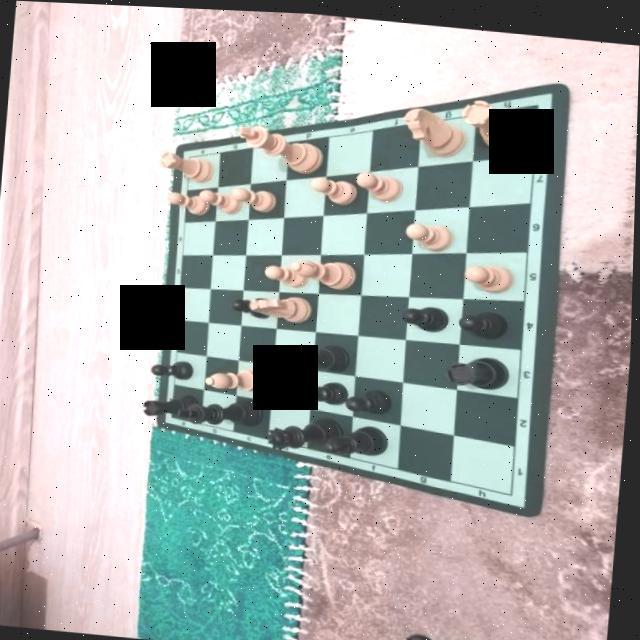chess-table-corners: (528, 91, 548, 111), (503, 480, 524, 499), (182, 146, 202, 163), (167, 406, 183, 424)
